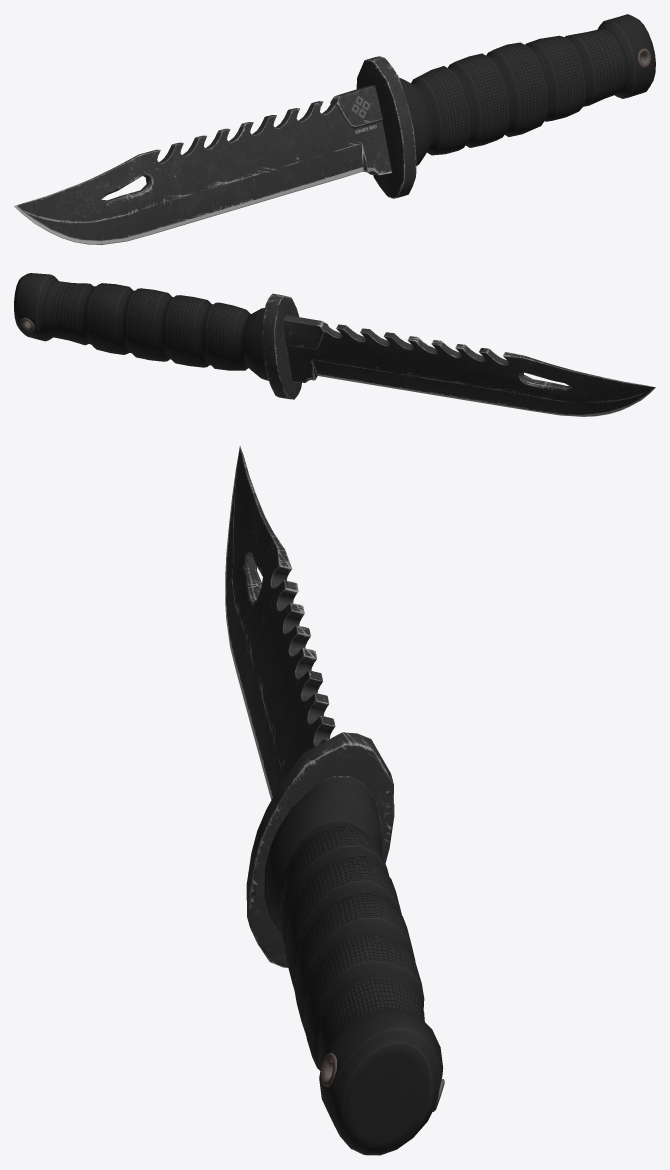
The model's file is combat_knife.glb.
The picture shows the model from 3 angles, top to bottom: view 1: azimuth 30°, elevation 25°; view 2: azimuth 150°, elevation 25°; view 3: azimuth 270°, elevation 25°; orthographic projection. The views are drawn at different scales.
Visible parts, largest first — view 1: Object_4; view 2: Object_4; view 3: Object_4.
Boxes of the visible parts, <box> form: Object_4: <box>14,14,655,244</box>; Object_4: <box>14,273,655,416</box>; Object_4: <box>225,446,444,1155</box>.
Bounding box in the file's own units: 4.31 × 0.7779 × 0.6849.
1 material, 1 textured.
